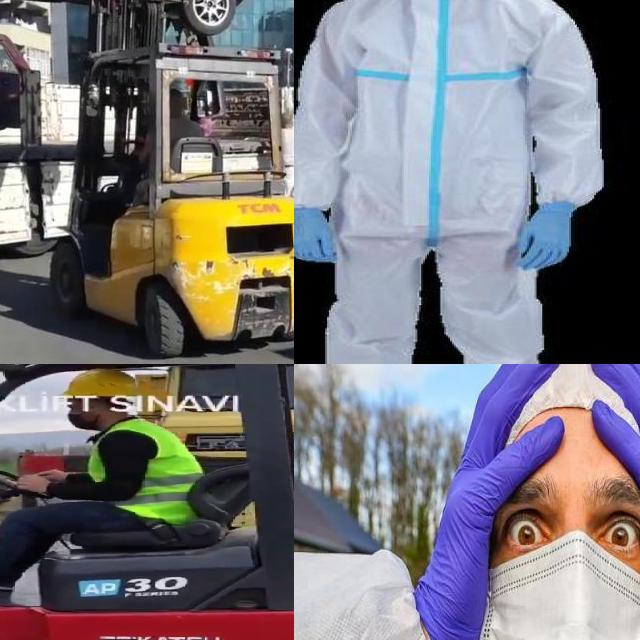Glove: (408, 364, 566, 640), (586, 364, 640, 640), (510, 198, 580, 270), (294, 205, 344, 263)
MASK: (483, 531, 640, 640)
